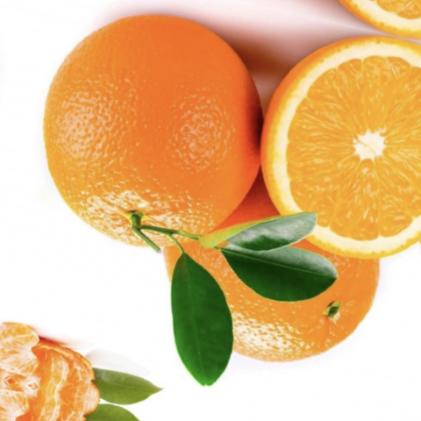orange: (5, 0, 305, 296), (121, 122, 409, 388)
